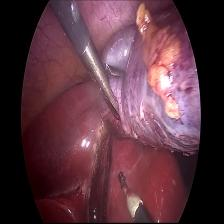Grasper: (81, 35, 129, 120)
Hook: (115, 164, 150, 224)
